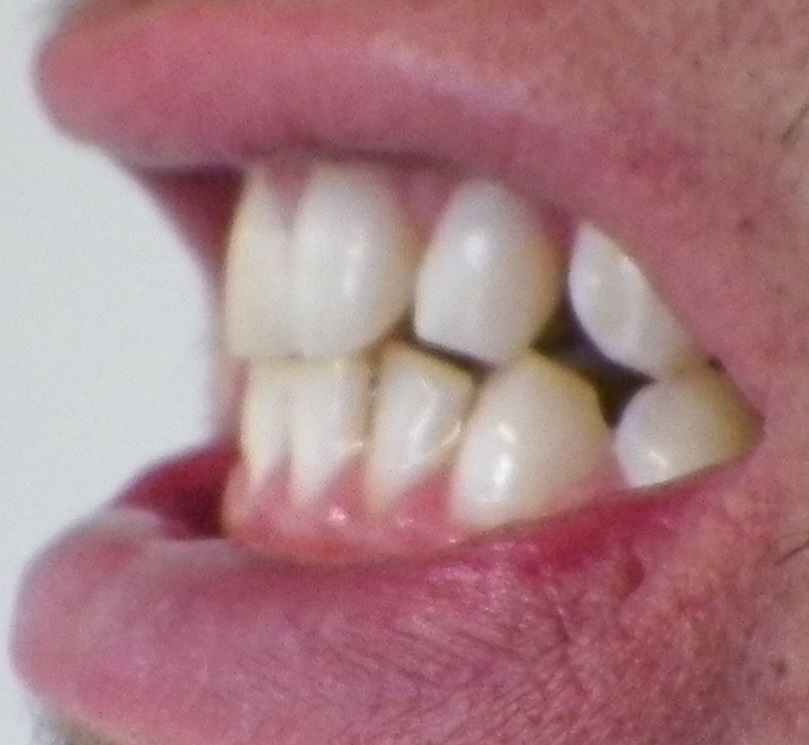boca: (224, 172, 753, 516)
